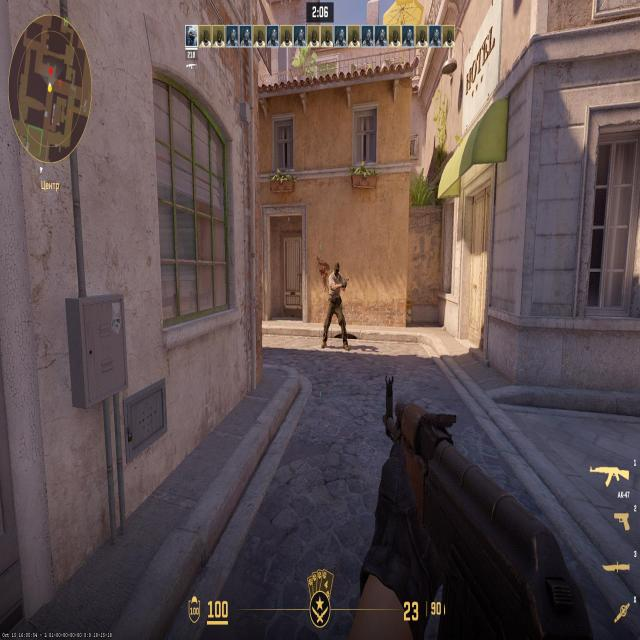T: (328, 261, 343, 334)
T_heat: (334, 264, 338, 280)
